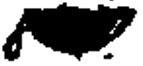Basket: (3, 5, 137, 63)
